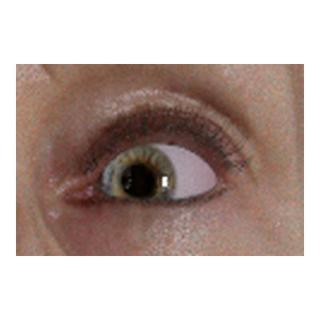pupil: (122, 165, 154, 197)
